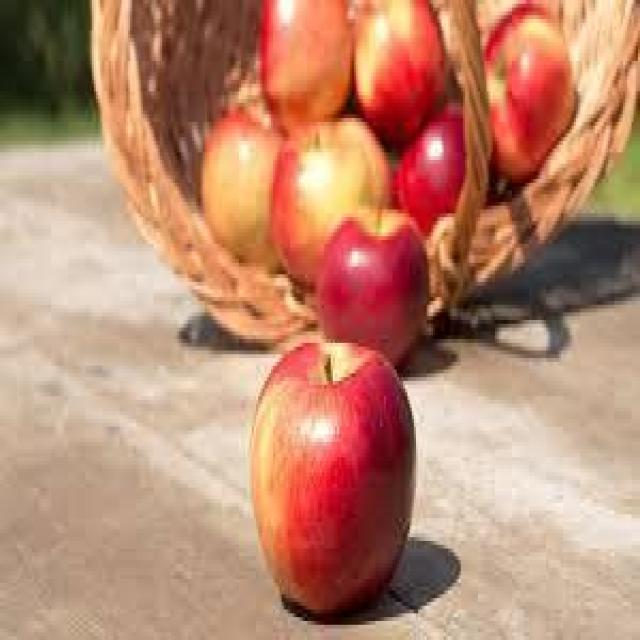maca: (247, 335, 416, 617)
